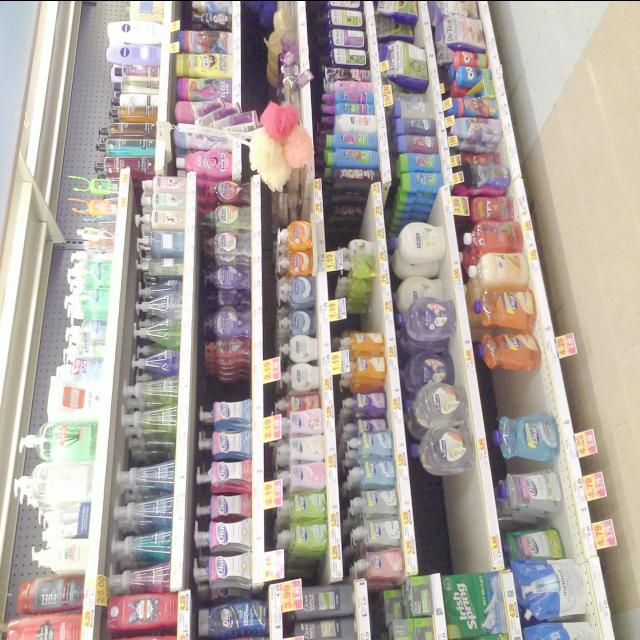empty_space: (427, 481, 477, 561), (487, 370, 549, 410), (337, 193, 368, 234), (199, 371, 245, 393)
